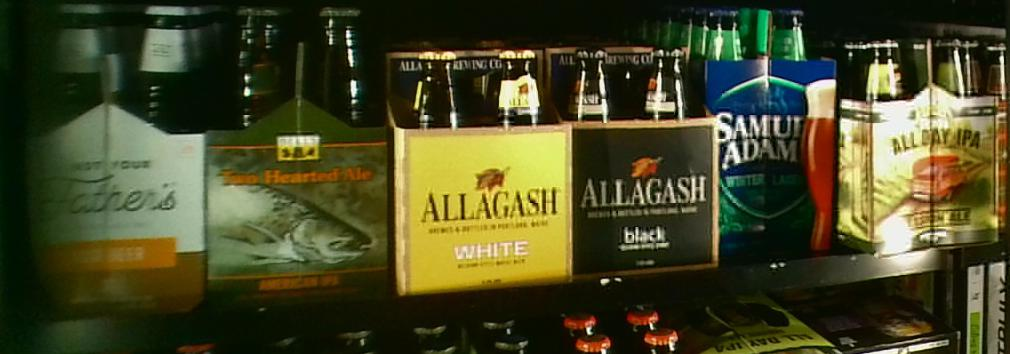bottle: (205, 1, 394, 302), (30, 1, 203, 315), (395, 41, 572, 302), (560, 42, 720, 282), (844, 37, 993, 254), (716, 5, 838, 257)
